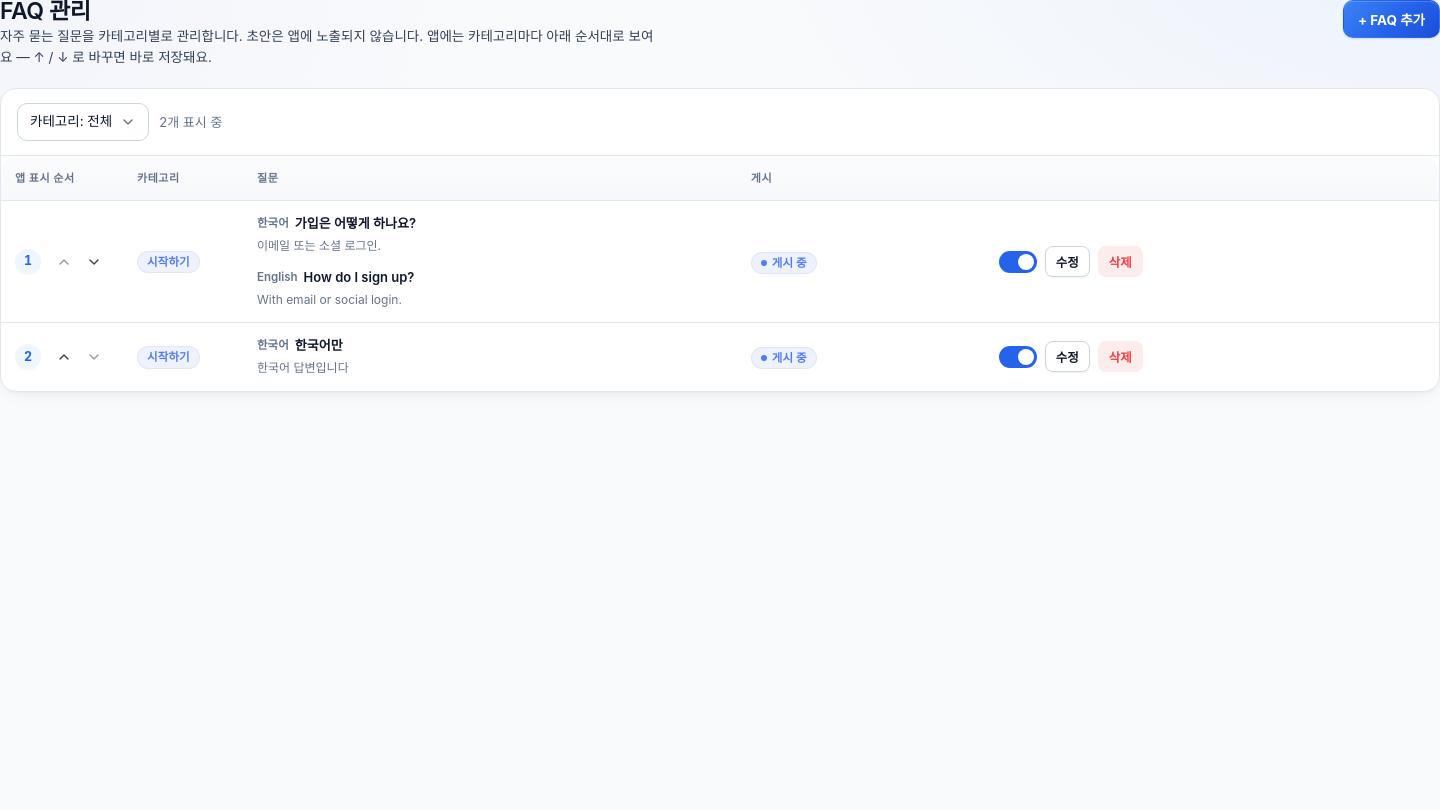
Test case: authoring both languages › refuses to save with no language filled in, or only half of one
Expected: the text "가입은 어떻게 하나요?" is shown, 295,215 -> 416,231
Click the button "+ FAQ 추가".
click(1391, 19)  # box 1343,0 -> 1439,38
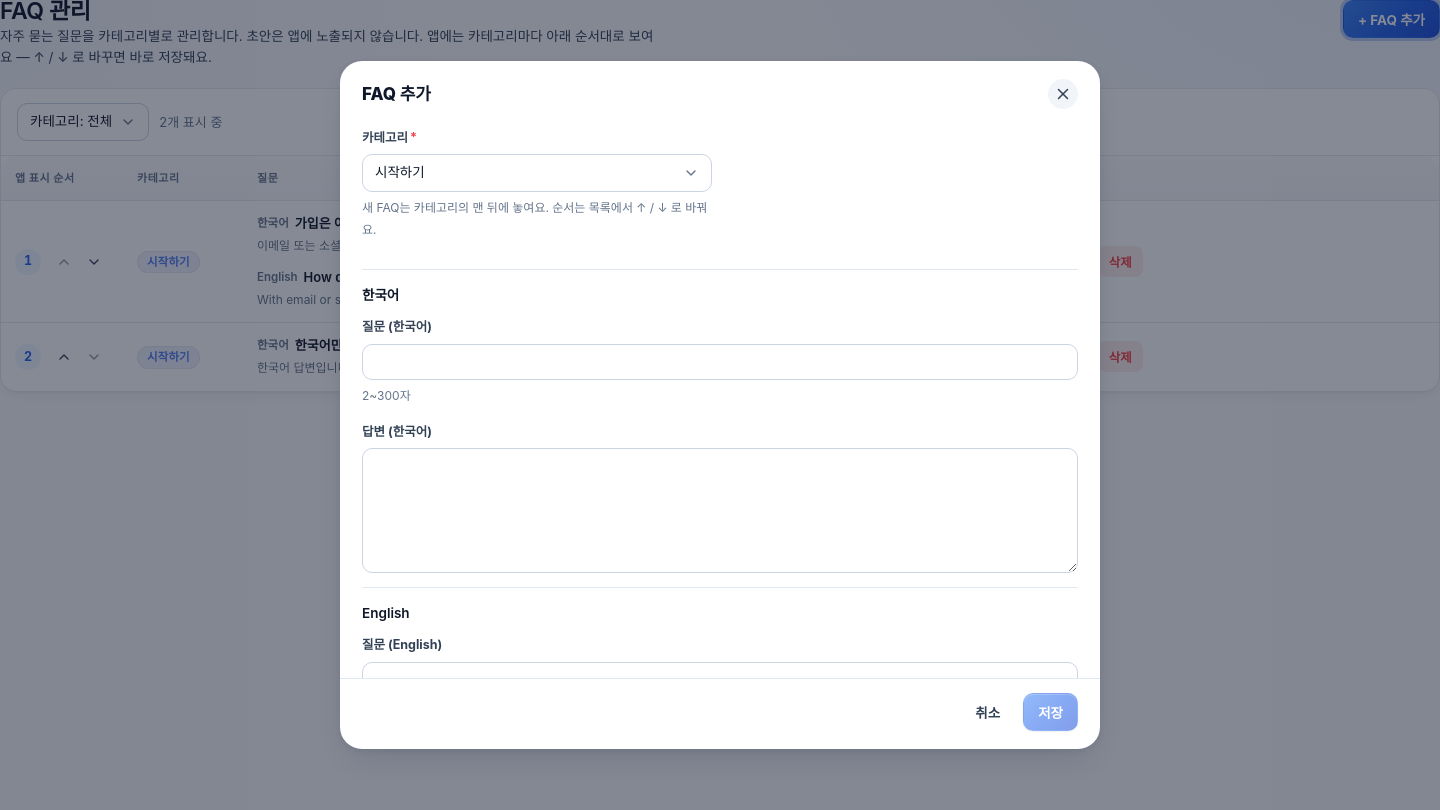
Now the button "저장" is disabled, box 1023,693 -> 1078,731
Type "질문만 입력" into the field labelled "질문 (한국어) 2~300자".
click(720, 362); type("질문만 입력")  # box 362,344 -> 1078,380
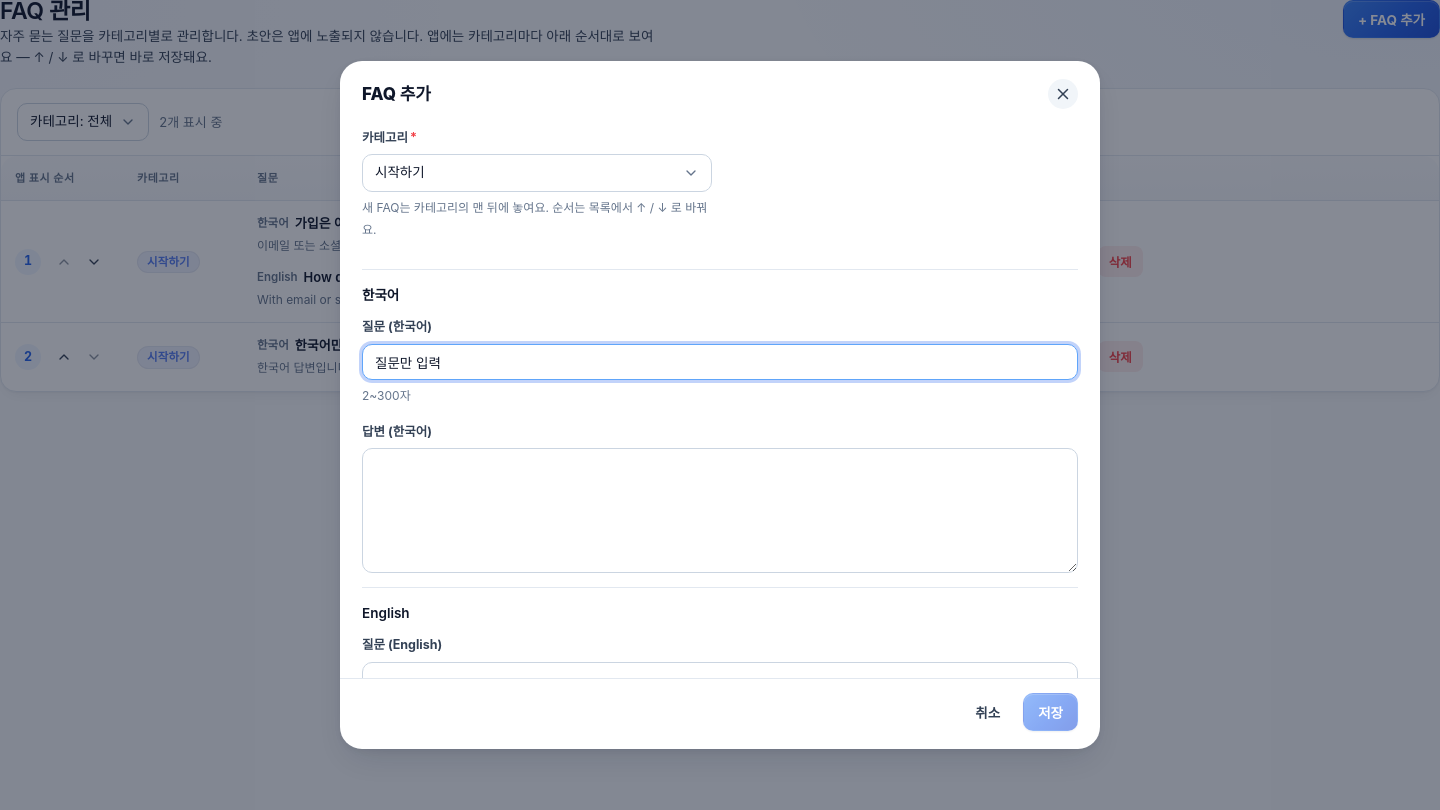
Now the button "저장" is disabled, box 1023,693 -> 1078,731
Type "이제 답변도" into the text box labelled "답변 (한국어)".
click(720, 511); type("이제 답변도")  # box 362,448 -> 1078,573
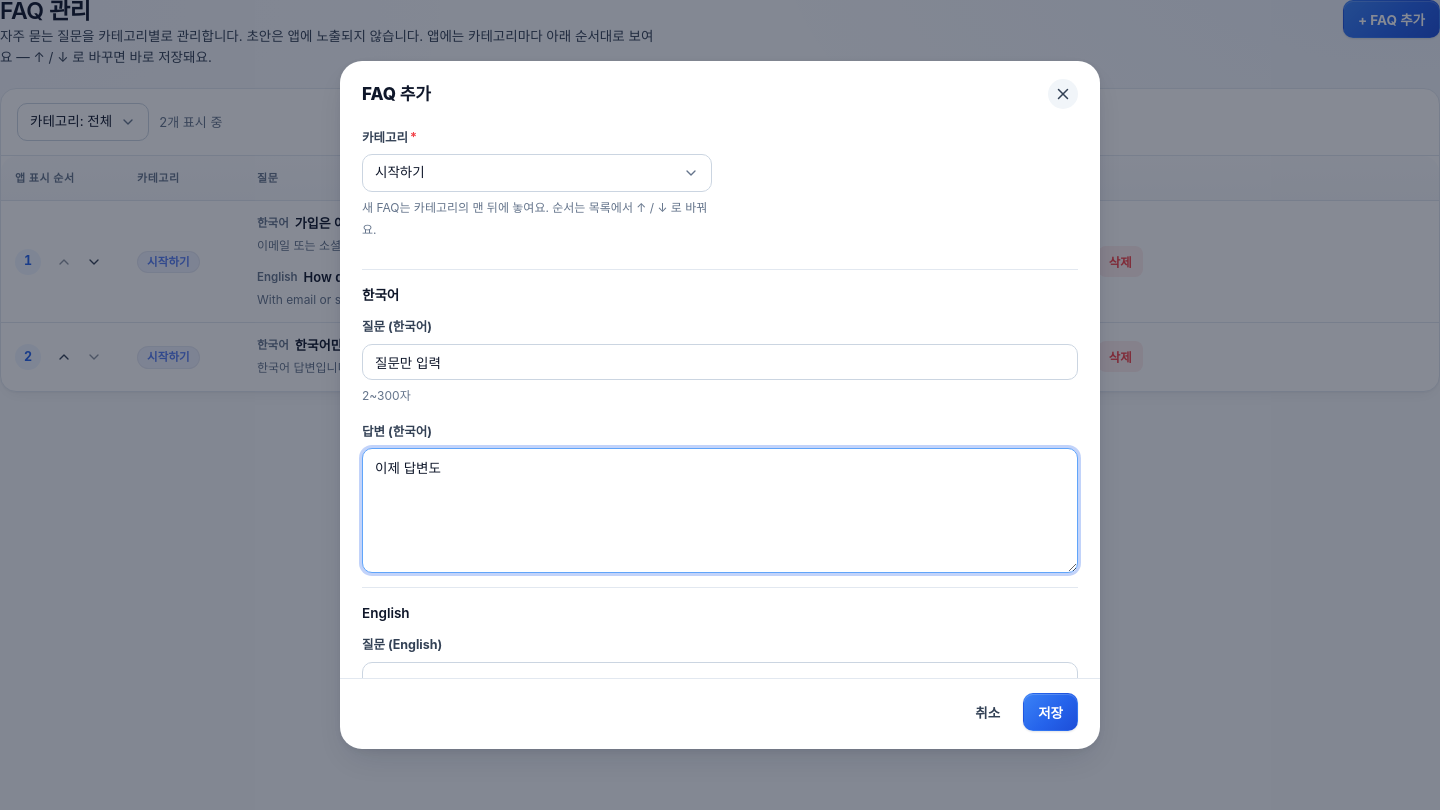
Now the button "저장" is enabled, box 1023,693 -> 1078,731
